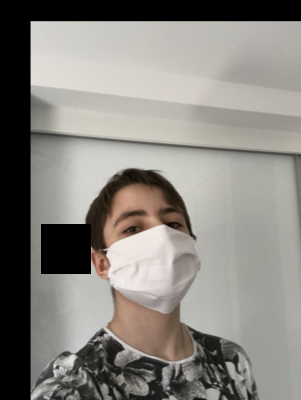with_mask: (103, 200, 199, 318)
